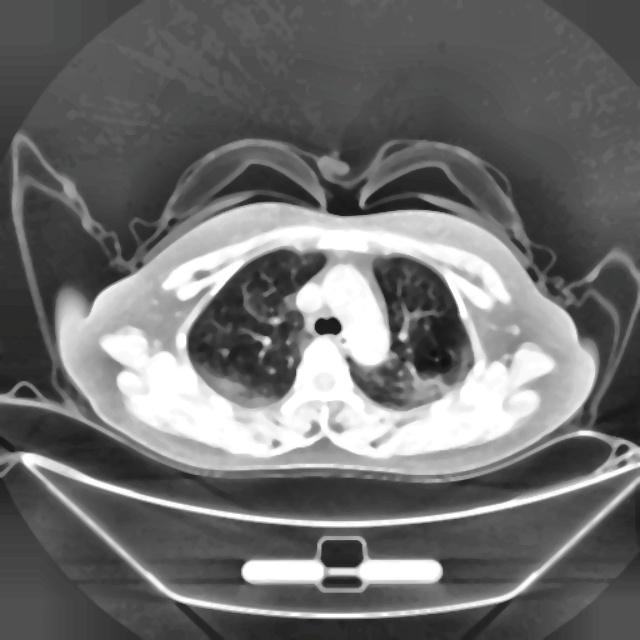covid: (51, 136, 598, 483)
